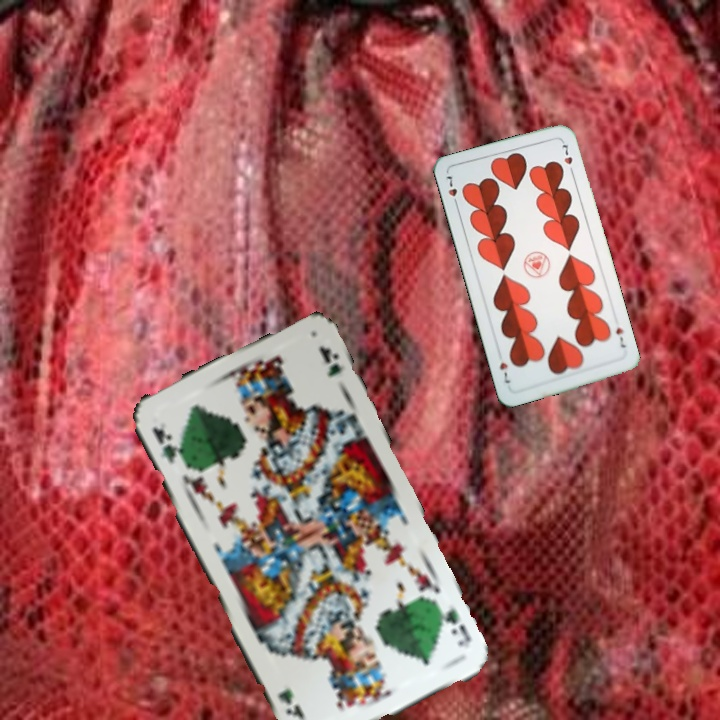GK: (433, 602, 474, 651), (148, 422, 187, 467)
H7: (442, 172, 461, 210), (612, 324, 628, 350)
